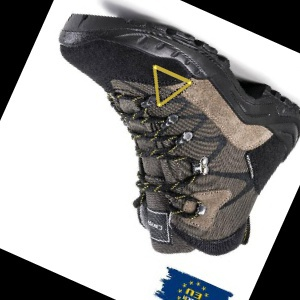triangle: (145, 61, 197, 109)
